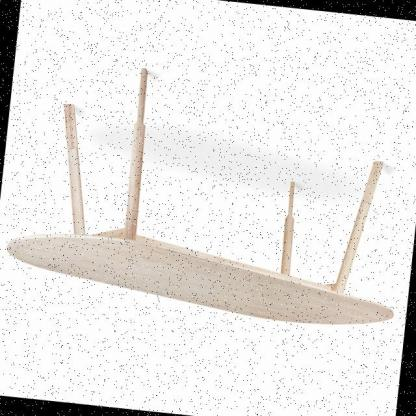Table: (0, 32, 416, 346)
